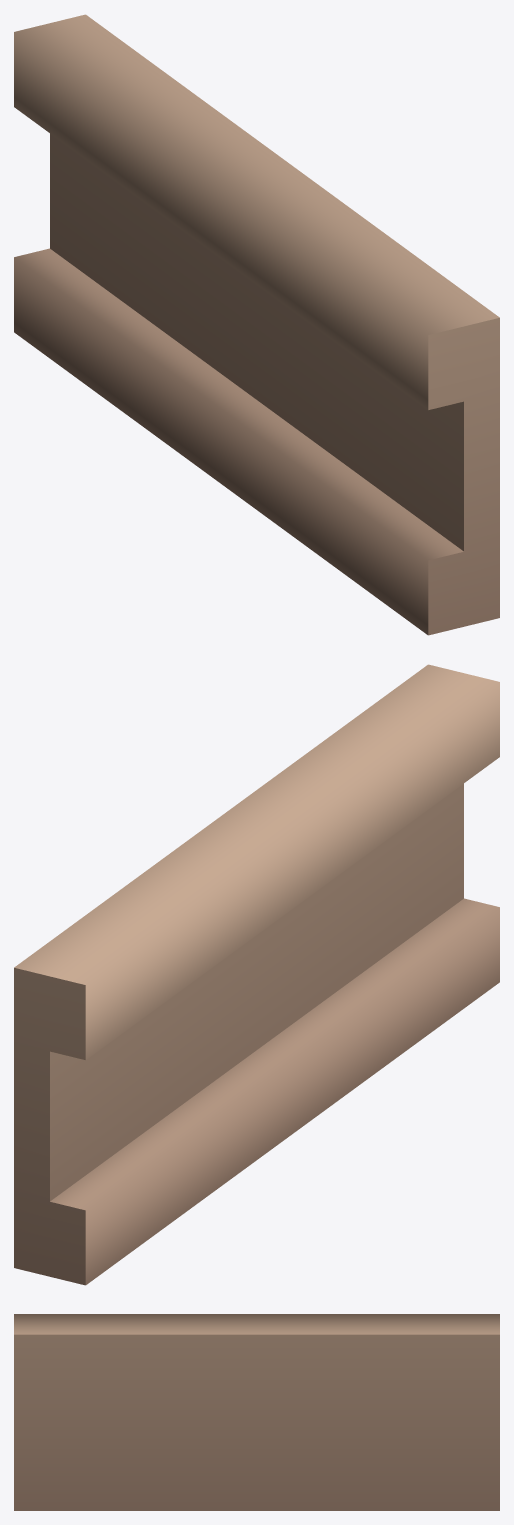
Rendered from baseboard-detailed-half (%wall).glb.
3 views of the same model, one above another, from view 1: azimuth 30°, elevation 25°; view 2: azimuth 150°, elevation 25°; view 3: azimuth 270°, elevation 25° (orthographic). The views are drawn at different scales.
Parts seen in each view (by area): view 1: baseboard-detailed-half (%wall); view 2: baseboard-detailed-half (%wall); view 3: baseboard-detailed-half (%wall).
Part boxes in pixels (<box>): baseboard-detailed-half (%wall): <box>14,14,499,635</box>; baseboard-detailed-half (%wall): <box>14,664,499,1285</box>; baseboard-detailed-half (%wall): <box>14,1314,499,1510</box>.
Size of the model in its own units: 0.05 by 0.2 by 0.5.
